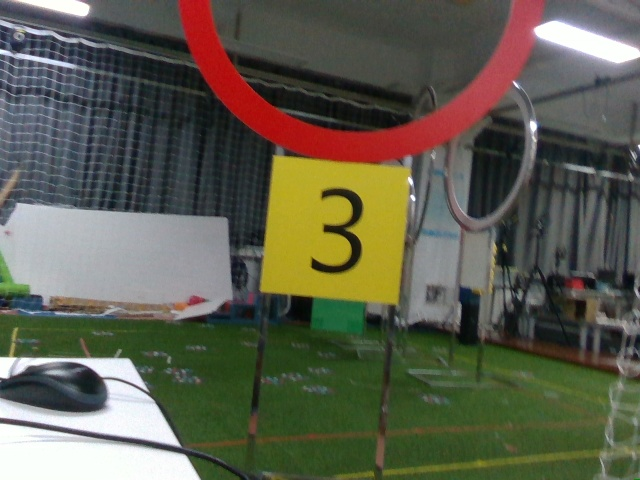target: (271, 162, 398, 289)
